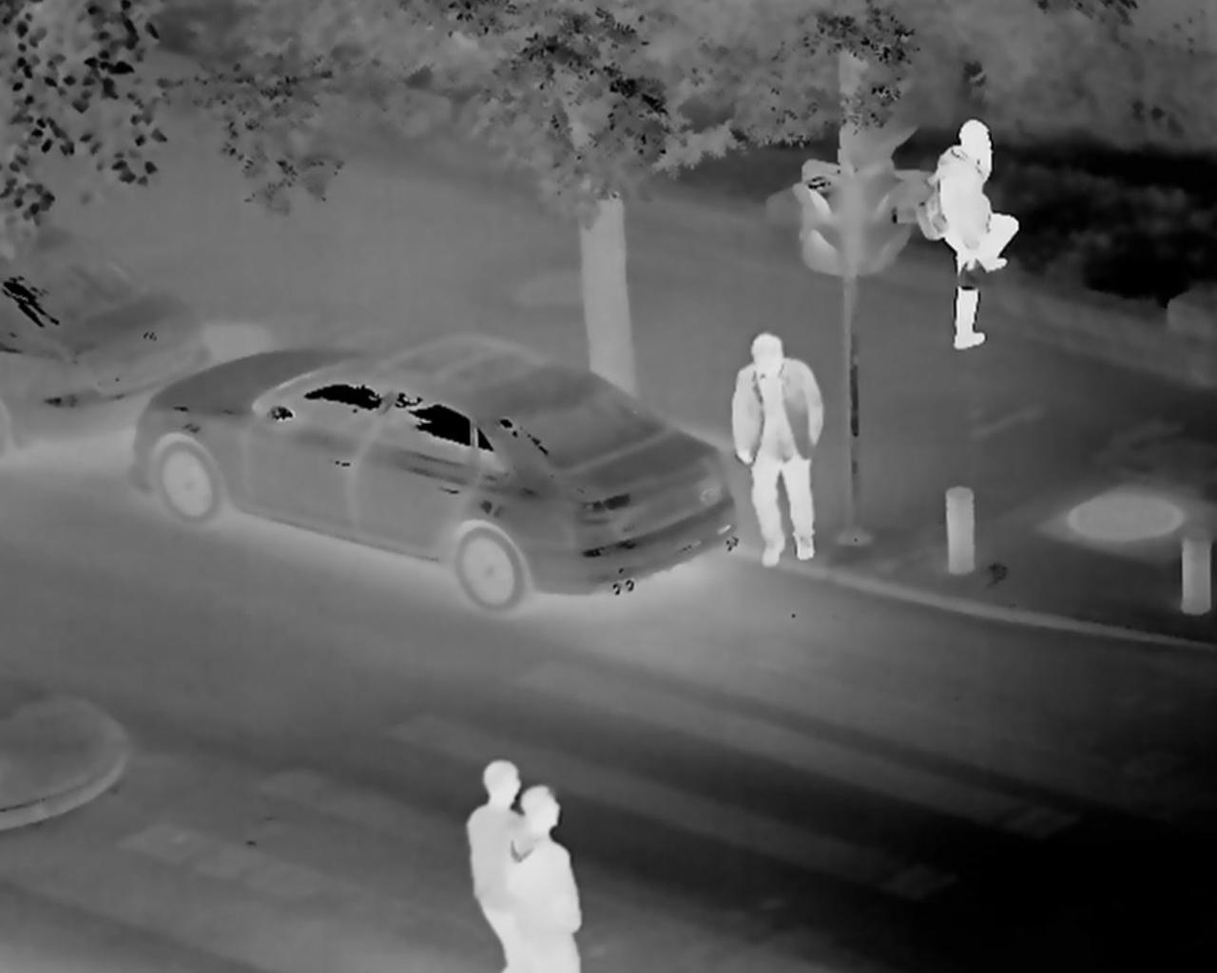person: (725, 331, 836, 568), (930, 120, 1022, 356), (462, 754, 534, 973), (512, 781, 588, 973)
